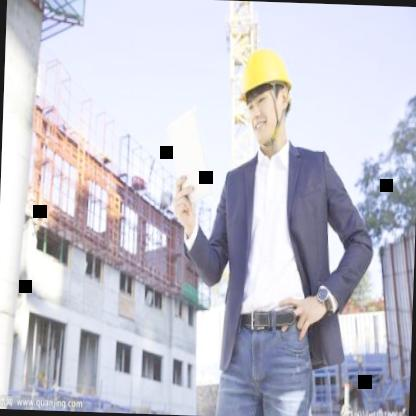helmet: (232, 32, 294, 160)
